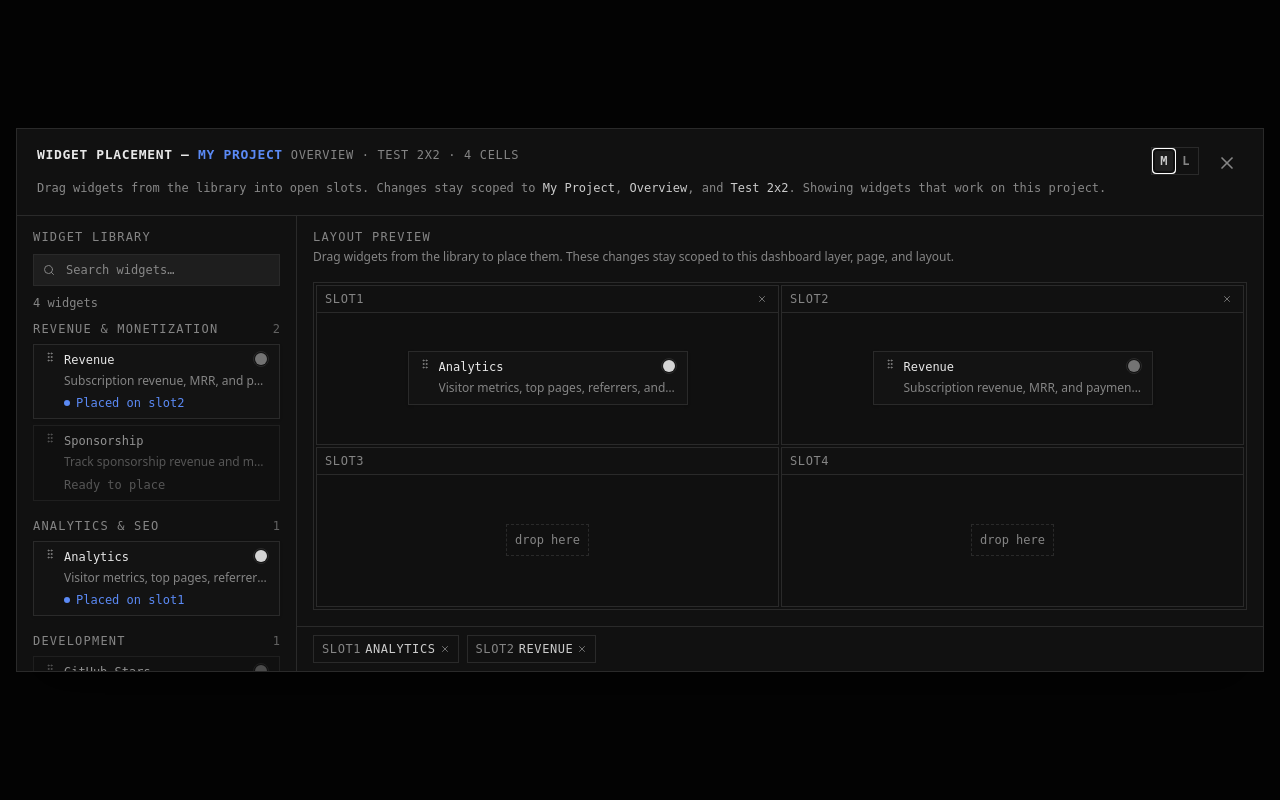
Test: ProjectWidgetPlacementModal › shows no widgets match message when search yields nothing
Step 1. Type "zzz-nonexistent" into the field with placeholder "Search widgets…" → (156, 270), box [33,254,280,286]
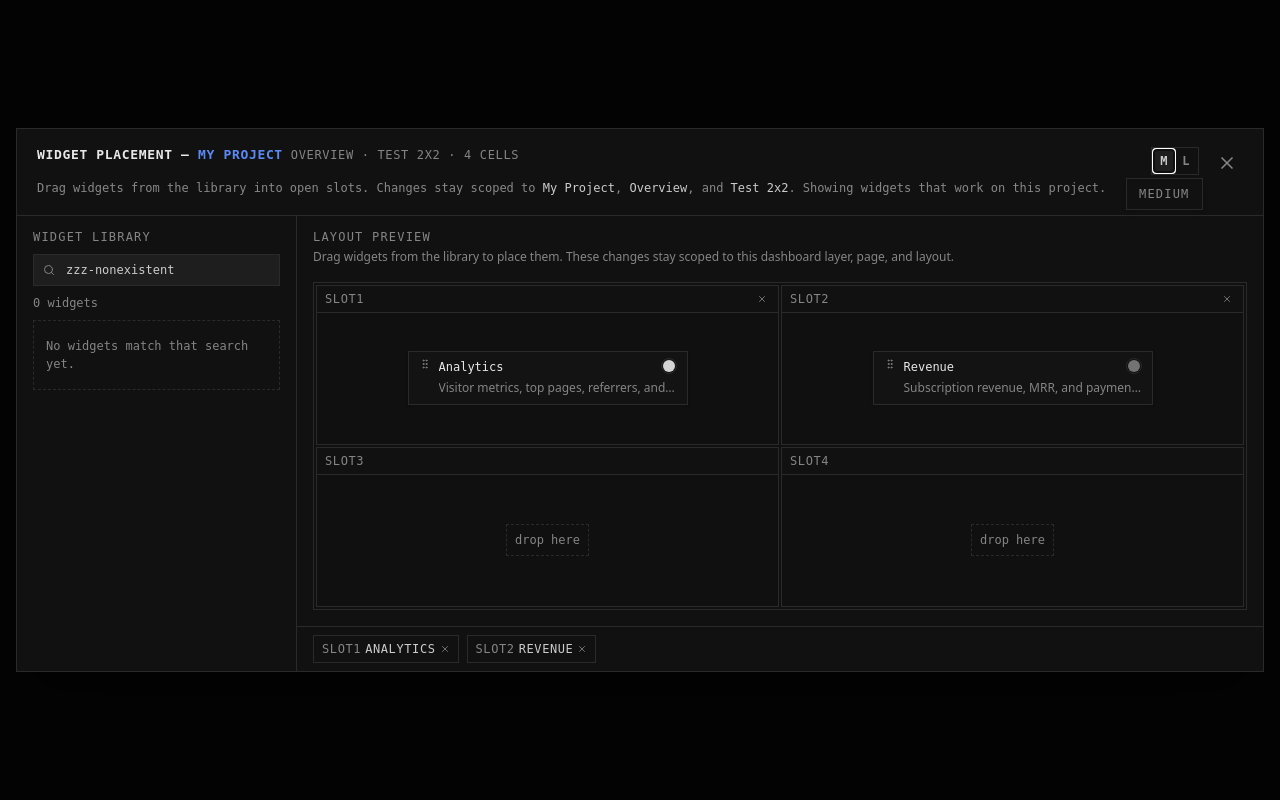
Check: the text "No widgets match that search yet." is shown, box [33,320,280,390]
Check: the text "0 widgets" is shown, box [33,296,98,310]
